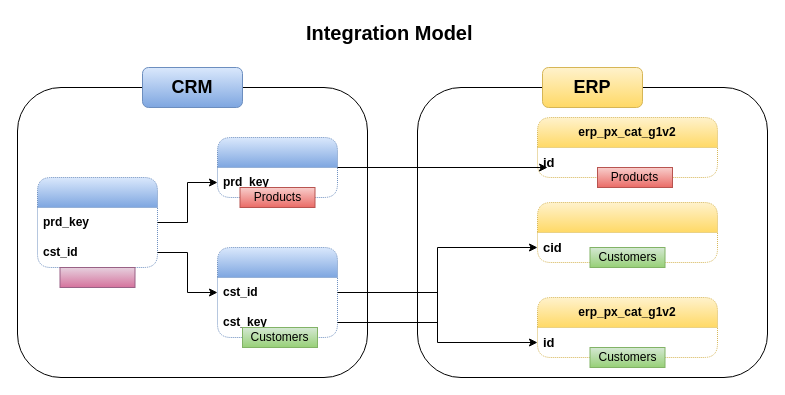
Some shapes in this 785 by 395 pixel diagram are drawn without their labels. Each missing label, with the box of its shape:
crm_cust_info: (216, 246, 338, 338)
crm_products: (216, 136, 338, 198)
crm_sales_details: (36, 176, 158, 268)
erp_cust_az12: (536, 202, 718, 262)
Sales: (59, 266, 135, 288)
